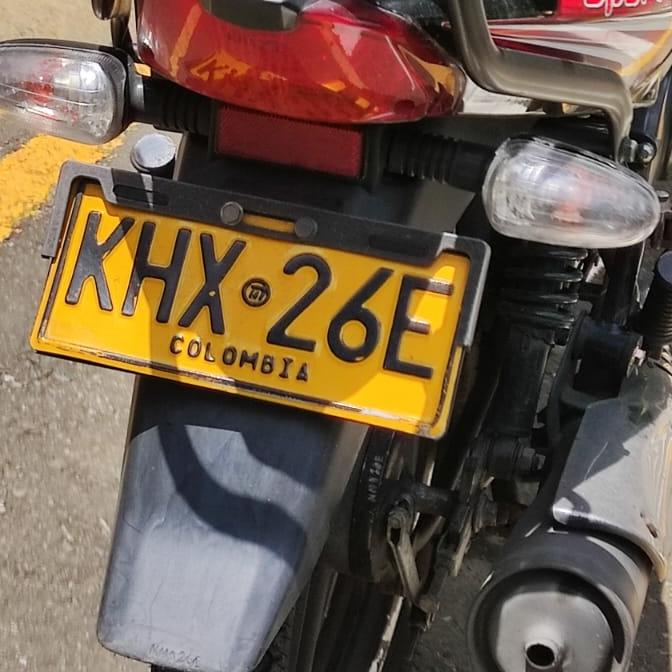plates: (15, 166, 484, 440)
